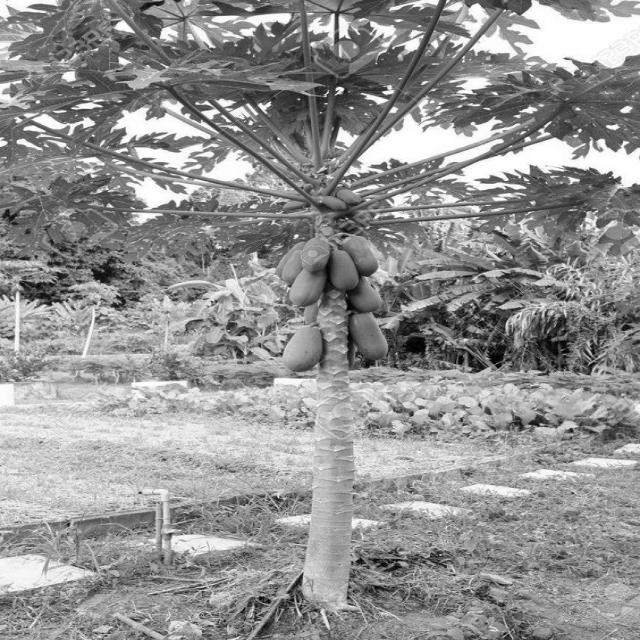Papaya-Tree: (3, 6, 640, 475)
